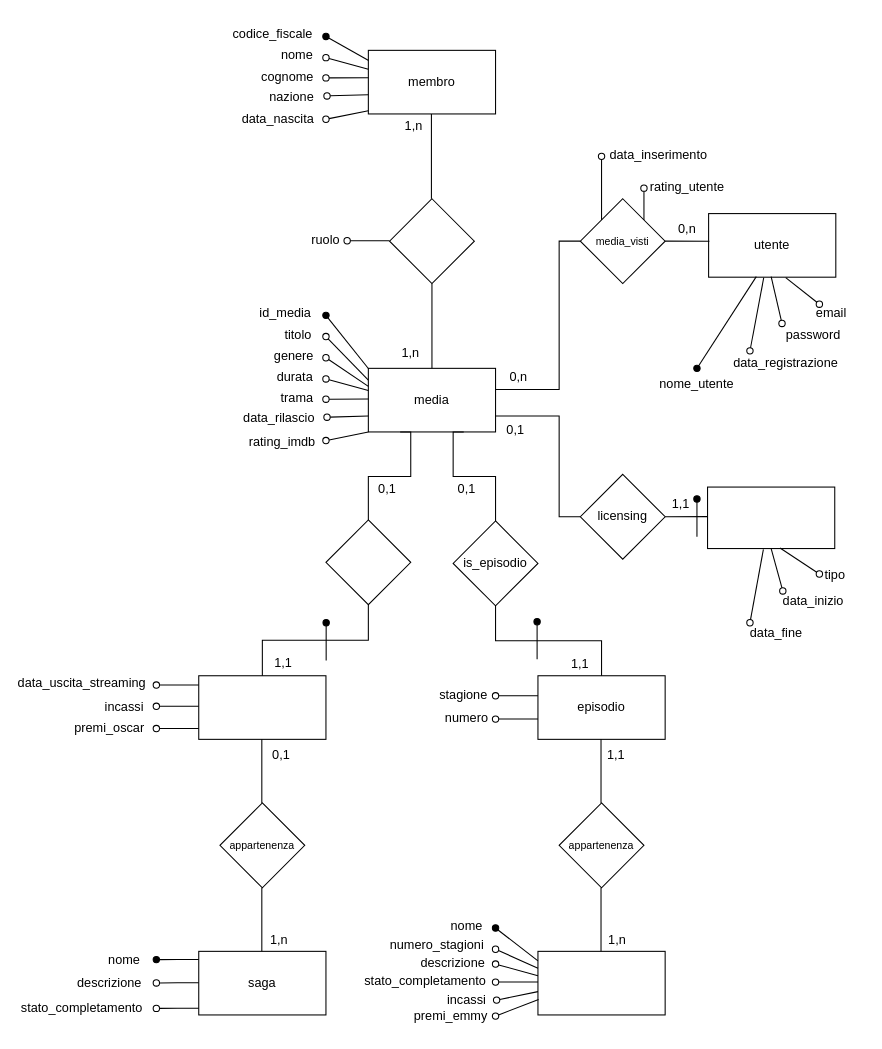
Some shapes in this 882 by 1049 pixel diagram are drawn without their labels. The shapes that lost their labels are listed below. From the top down, each one's centre as x and y in pixels, then its label:
the point at 431,241: casting
the point at 770,517: licenza
the point at 368,562: is_film
the point at 262,707: film
the point at 601,982: serie_tv
